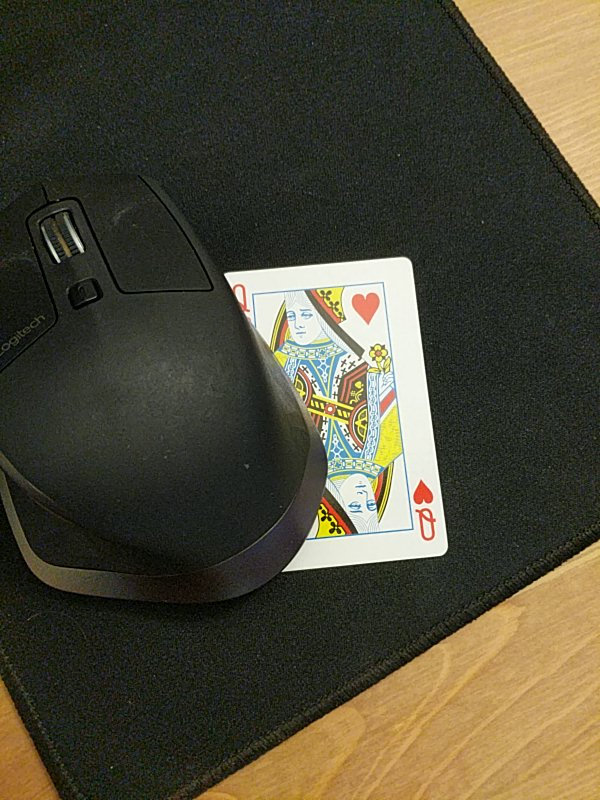Hearts: (207, 256, 452, 575)
